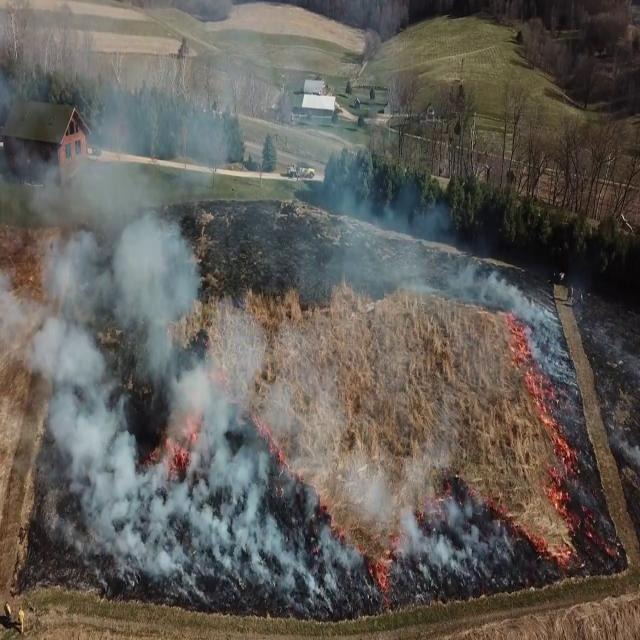Smoke: (1, 28, 503, 600)
